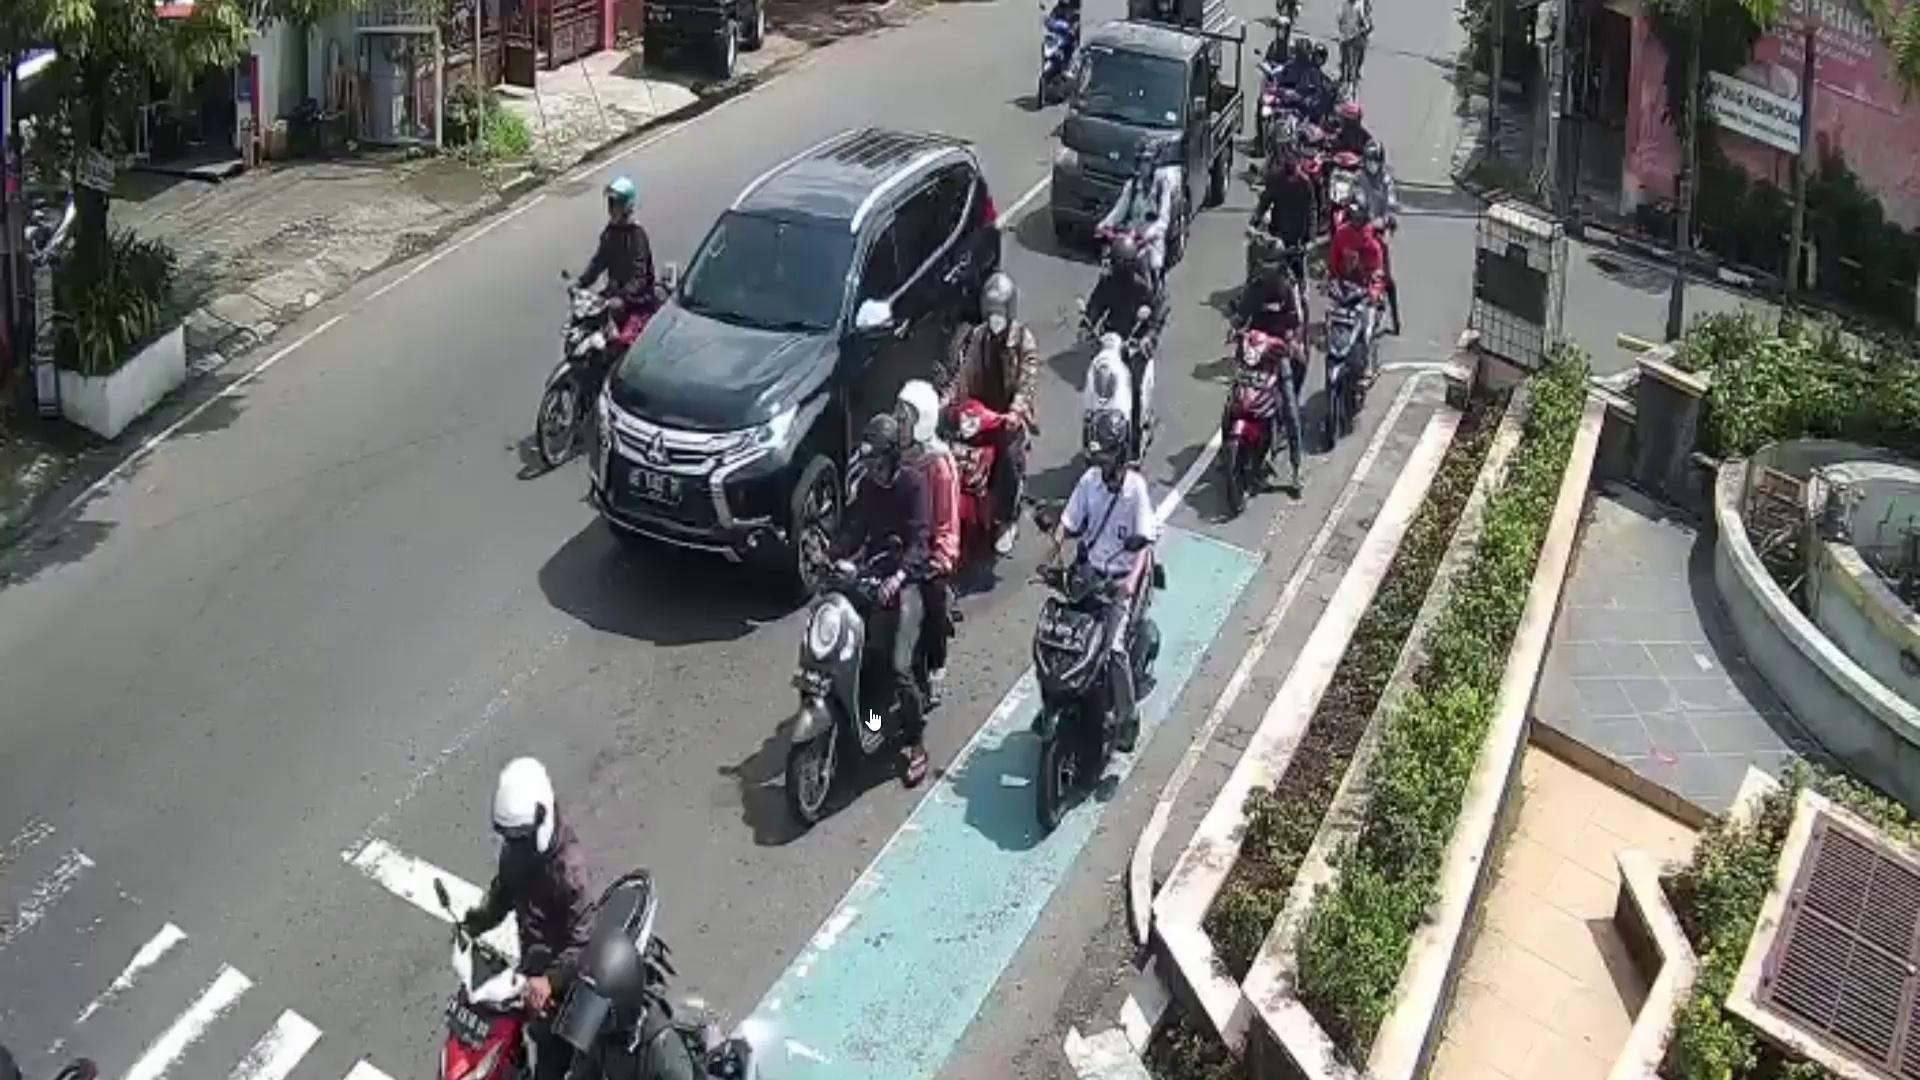car: (593, 125, 1004, 587), (1051, 20, 1244, 268)
motorbike: (440, 872, 657, 1080), (789, 550, 878, 827), (1027, 556, 1106, 828), (533, 280, 618, 473), (1229, 323, 1280, 517), (1323, 273, 1365, 459)
